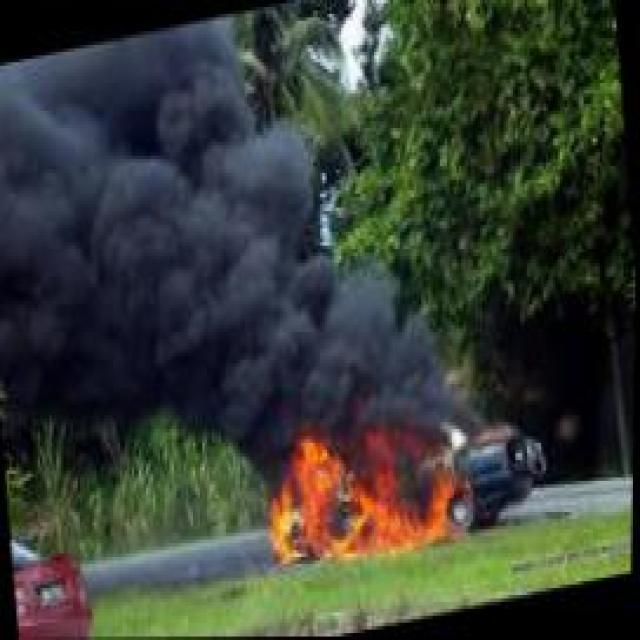Fire: (250, 377, 482, 581)
Smoke: (0, 0, 468, 498)
